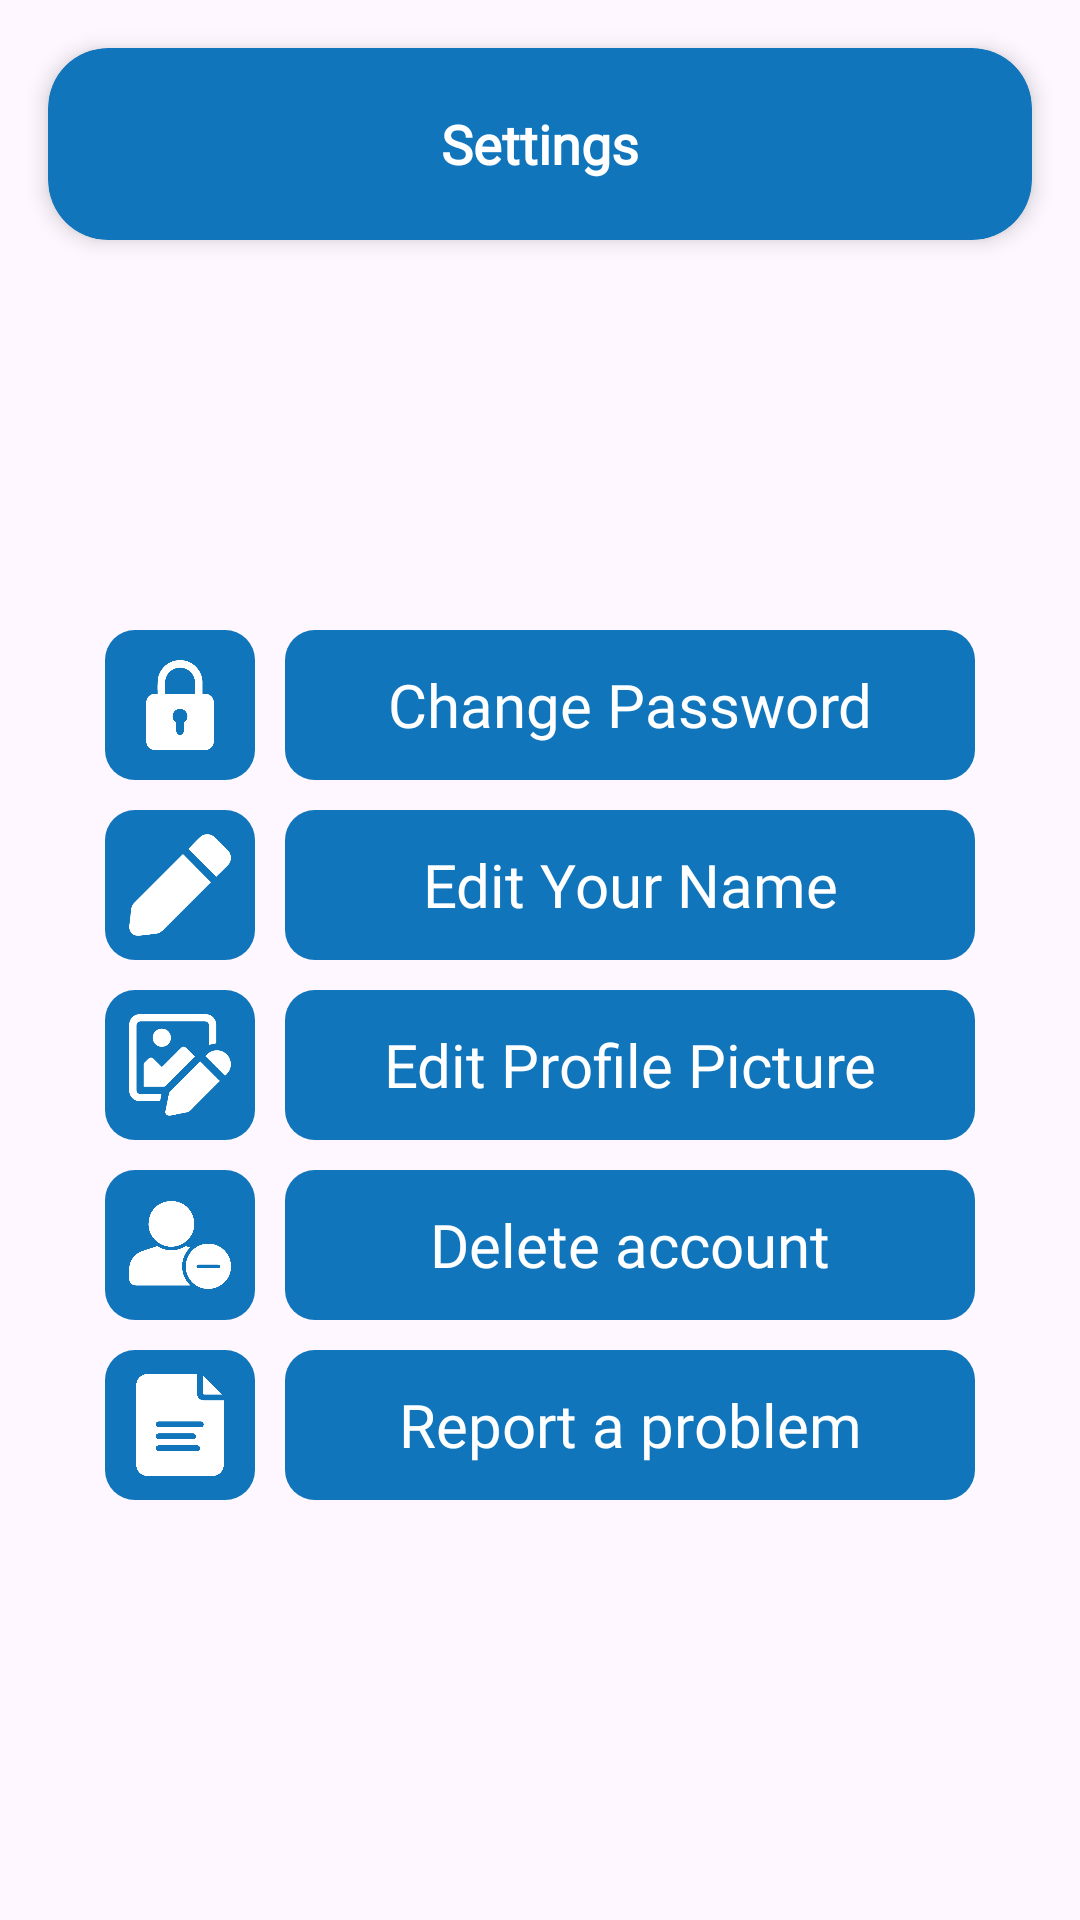

Screen size 1080×1920. Icon name, then its center in pixels as (x,y):
editimage: (180,1065)
